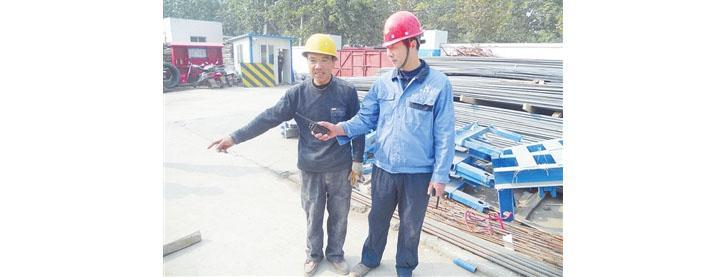helmet: (383, 10, 429, 68), (298, 30, 345, 81)
